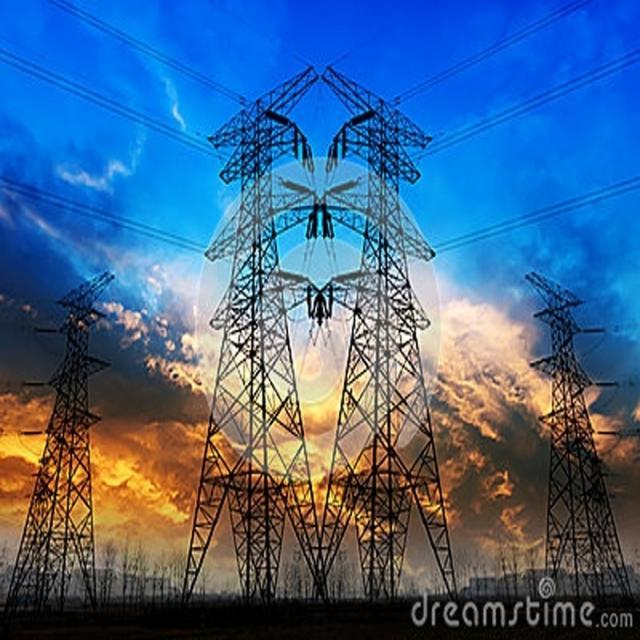non-critical vegetation: (322, 51, 471, 605), (197, 92, 321, 596), (0, 306, 104, 616), (524, 303, 628, 597)
